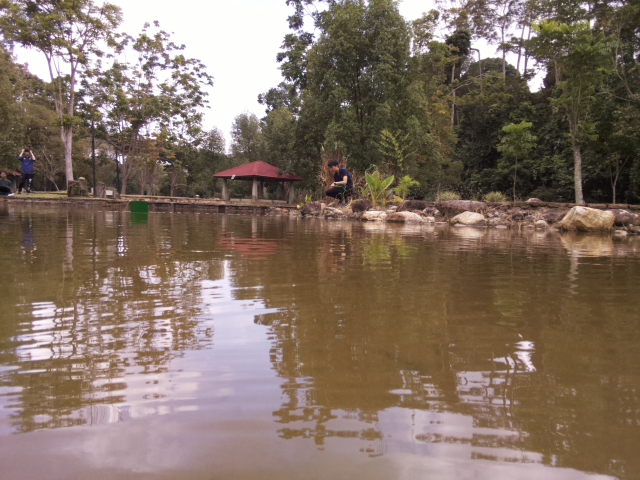obstacle: (129, 200, 148, 213)
